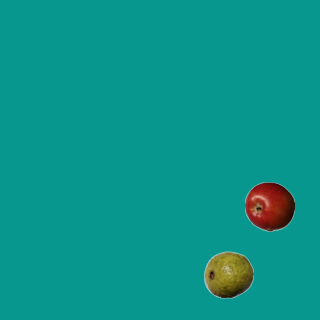Apple Braeburn: (244, 181, 294, 231)
Guava: (203, 249, 253, 299)
